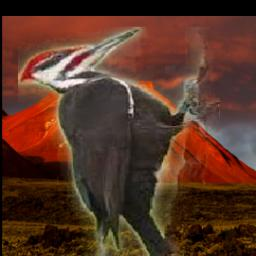Woodpecker: (19, 28, 221, 256)
